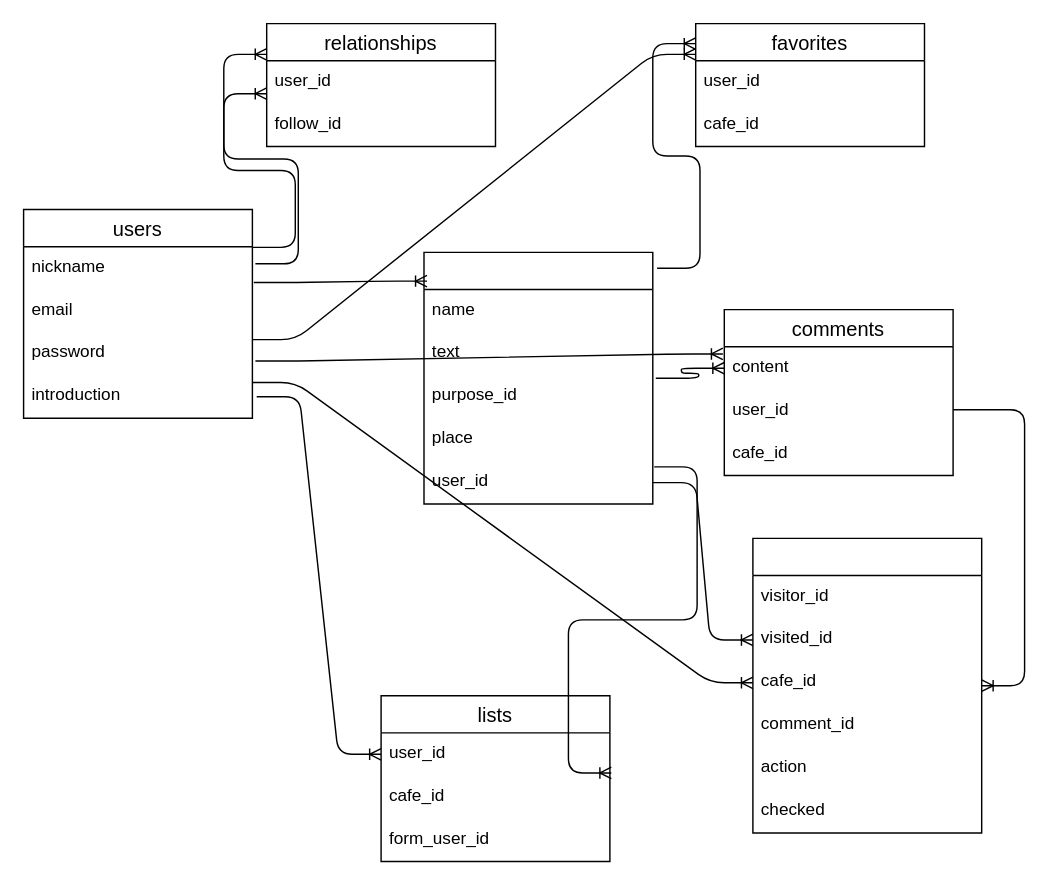
Some shapes in this 1048 by 885 pixel diagram are drawn without their labels. Each missing label, with the box of its shape:
cafes: (423, 251, 653, 504)
notifications: (751, 537, 982, 833)
